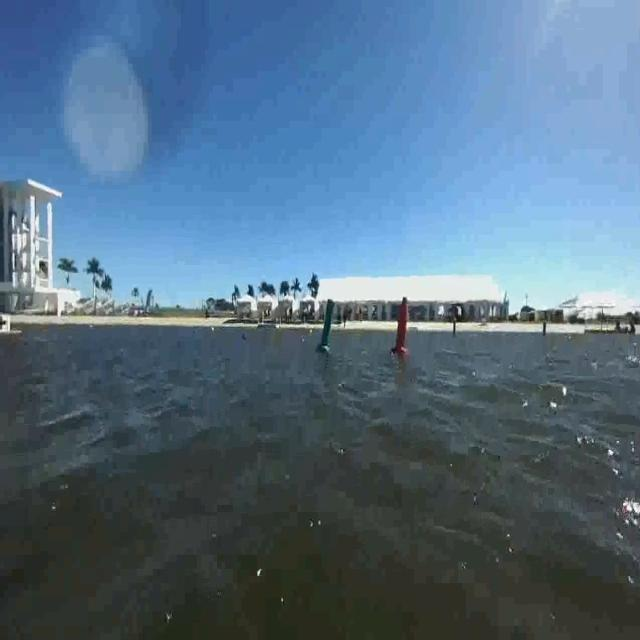green-column-buoy: (316, 300, 336, 352)
red-column-buoy: (390, 299, 410, 355)
